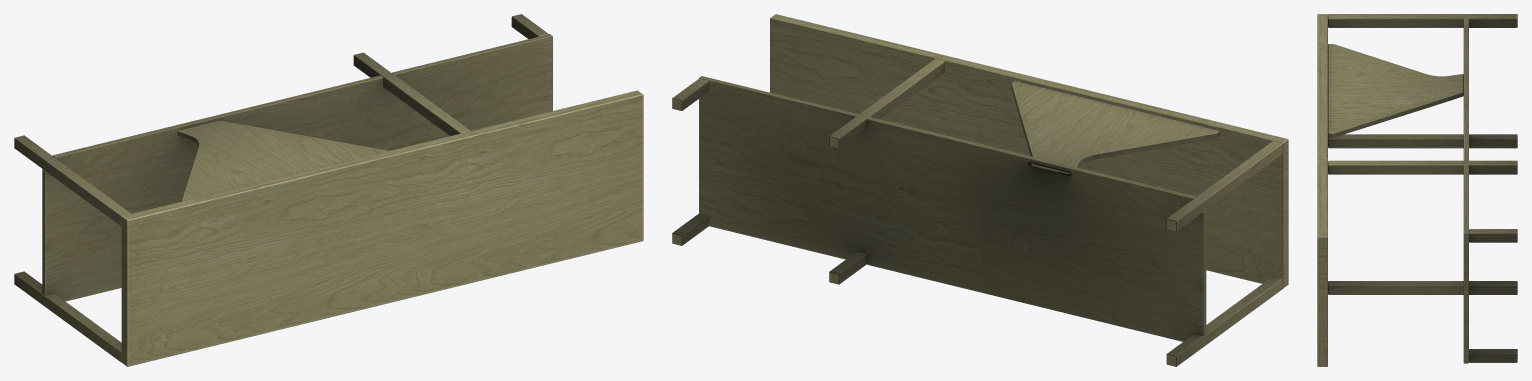
Rendered from nt_2020_wood_table_LOD0.obj.
3 views of the same model, side by side, from view 1: azimuth 30°, elevation 25°; view 2: azimuth 150°, elevation 25°; view 3: azimuth 270°, elevation 25° (orthographic). The views are drawn at different scales.
Parts seen in each view (by area): view 1: mtl_nt_2020_wood_table; view 2: mtl_nt_2020_wood_table; view 3: mtl_nt_2020_wood_table.
Part boxes in pixels (bbox=[...]): mtl_nt_2020_wood_table: bbox=[14, 14, 643, 366]; mtl_nt_2020_wood_table: bbox=[672, 14, 1288, 366]; mtl_nt_2020_wood_table: bbox=[1317, 14, 1517, 366].
Bounding box in the file's own units: 248 × 67.37 × 93.98.
